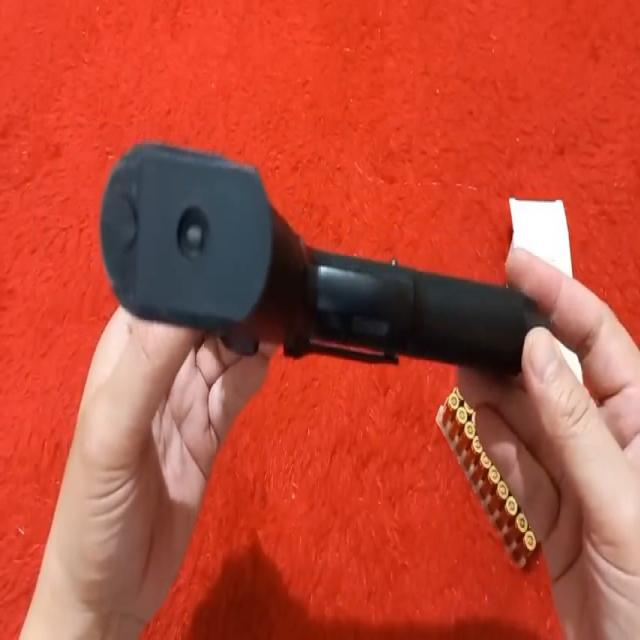handgun: (95, 120, 560, 398)
